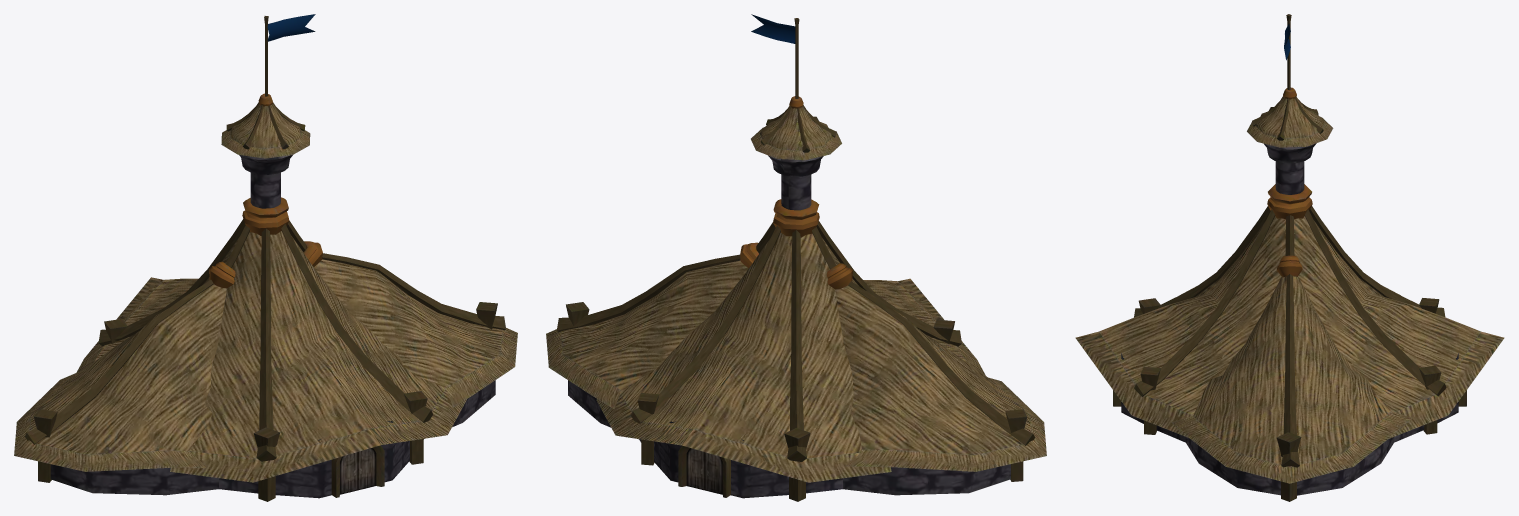
File: towncenter.glb
The picture shows the model from 3 angles, left to right: view 1: azimuth 30°, elevation 25°; view 2: azimuth 150°, elevation 25°; view 3: azimuth 270°, elevation 25°; orthographic projection. The views are drawn at different scales.
Visible parts, largest first — view 1: SM_TownCenter; view 2: SM_TownCenter; view 3: SM_TownCenter.
Boxes of the visible parts, x1,y1,x2,y2 form: SM_TownCenter: (14,14,517,501); SM_TownCenter: (546,14,1046,501); SM_TownCenter: (1075,14,1504,501).
Size of the model in its own units: 8.17 by 6.34 by 6.45.
Materials: 1 (1 with a texture image).
